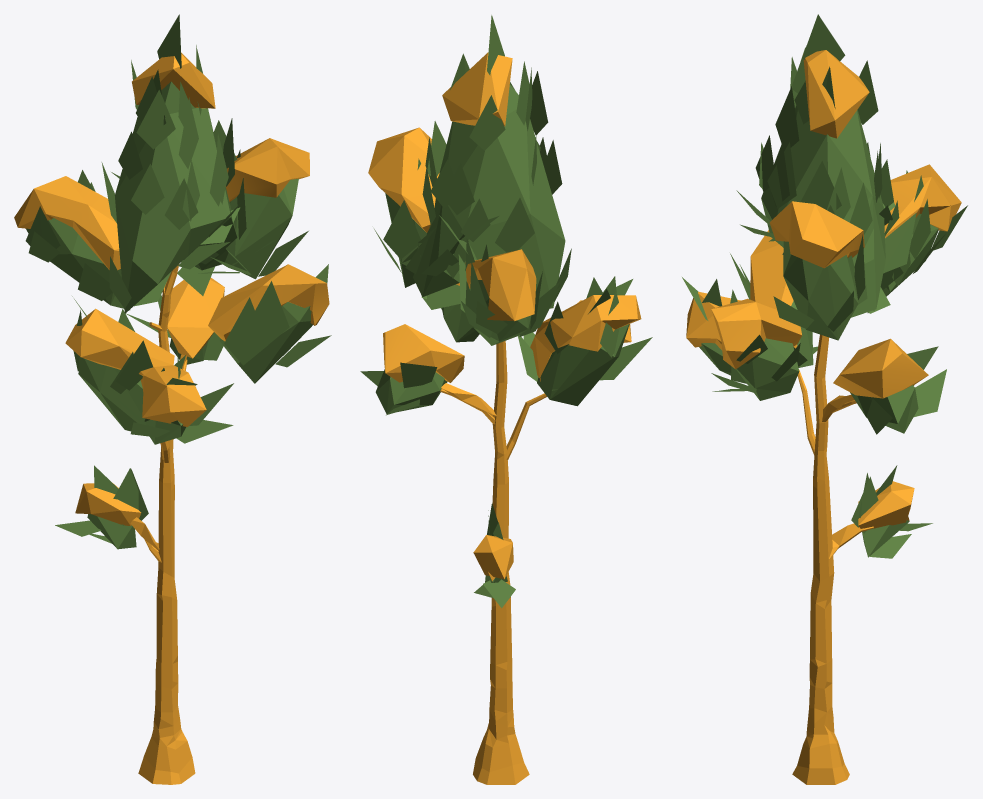
The model's file is SM_Tree_Birch_Young_A_Snow.fbx.
The picture shows the model from 3 angles, left to right: view 1: azimuth 30°, elevation 25°; view 2: azimuth 150°, elevation 25°; view 3: azimuth 270°, elevation 25°; orthographic projection.
Visible parts, largest first — view 1: tree-birch-young-a-snow; view 2: tree-birch-young-a-snow; view 3: tree-birch-young-a-snow.
Boxes of the visible parts, bbox=[...] form: tree-birch-young-a-snow: bbox=[14, 14, 331, 784]; tree-birch-young-a-snow: bbox=[360, 15, 652, 784]; tree-birch-young-a-snow: bbox=[682, 14, 967, 784].
Size of the model in its own units: 1.88 by 5.39 by 1.83.
